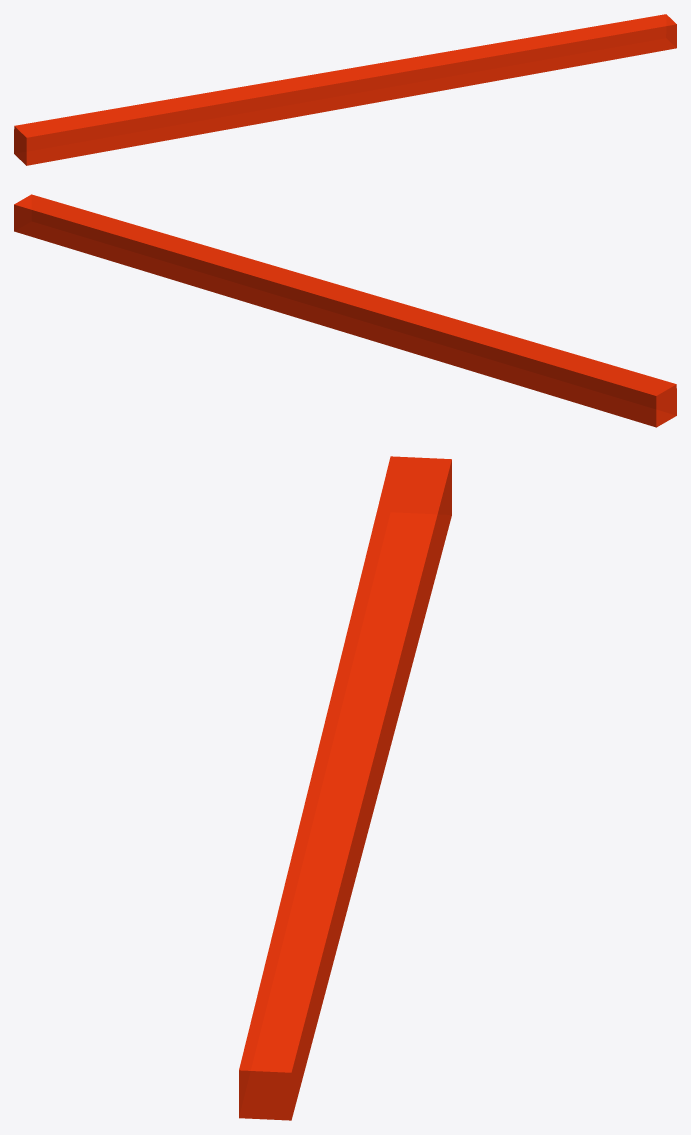
Rendered from Event_421556567_EErechit_41.fbx.
The picture shows the model from 3 angles, top to bottom: view 1: azimuth 30°, elevation 25°; view 2: azimuth 150°, elevation 25°; view 3: azimuth 270°, elevation 25°; orthographic projection. The views are drawn at different scales.
Parts seen in each view (by area): view 1: Model; view 2: Model; view 3: Model.
Part boxes in pixels (x1=…): Model: x1=14, y1=14, x2=676, y2=165; Model: x1=14, y1=194, x2=676, y2=427; Model: x1=239, y1=456, x2=451, y2=1120.
Size of the model in its own units: 1.95 by 0.0973 by 0.2923.
